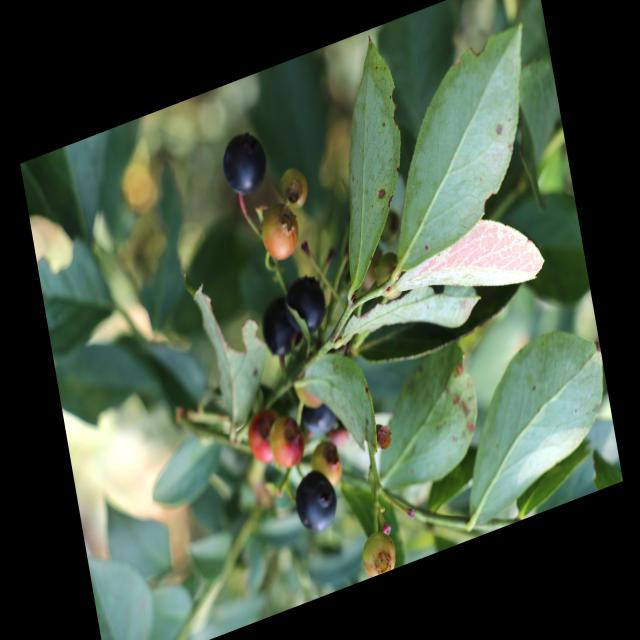blueberry: (219, 126, 270, 201), (292, 465, 338, 539), (284, 274, 332, 340), (259, 294, 303, 363), (300, 397, 339, 440)
blueberry-halfripe: (258, 202, 304, 266), (358, 520, 404, 580), (266, 410, 308, 475), (244, 409, 280, 473)
